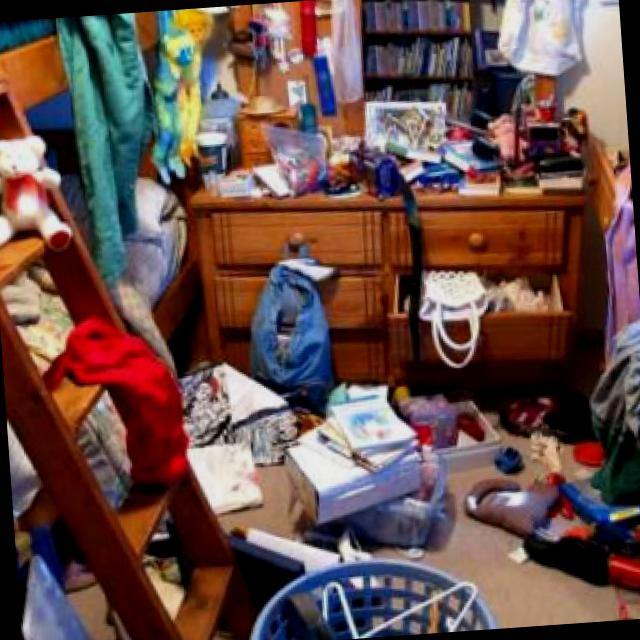mess: (175, 328, 640, 640), (0, 10, 191, 515), (203, 180, 570, 415), (192, 61, 596, 254), (25, 527, 244, 640)
